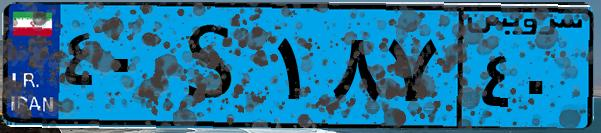0: (525, 38, 570, 115), (110, 28, 158, 98)
1: (270, 28, 330, 110)
4: (57, 26, 110, 100), (475, 38, 525, 113)
7: (385, 28, 445, 110)
8: (330, 28, 385, 110)
S: (158, 12, 270, 120)
